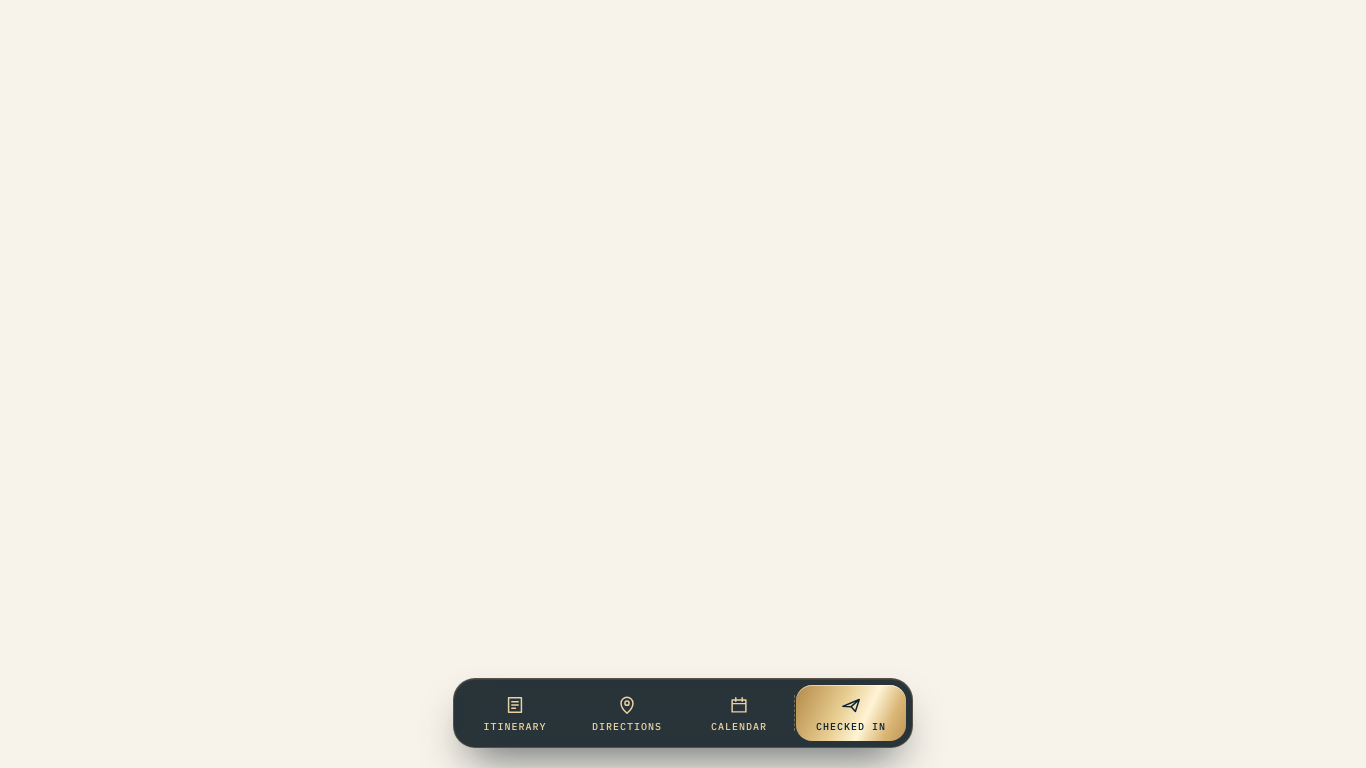
Scenario: BoardingDock › opens a calendar sheet listing exactly the two attending events in en
This screenshot has width=1366, height=768.
What coordinates should you click on to do the following:
click the button "Calendar"
I would click on:
 (739, 713)
Its box is [684,685,794,741].
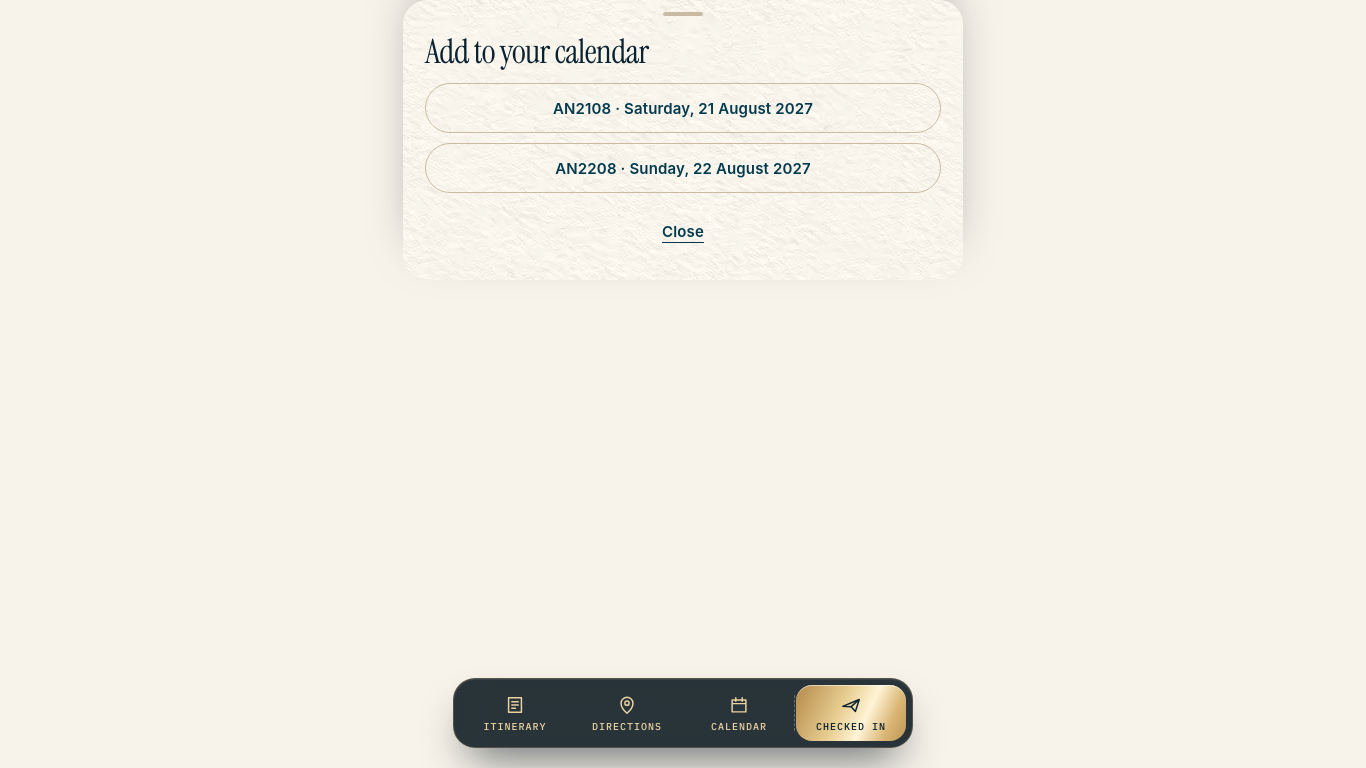
Expected: the number of links is 2, [425,83,941,133]; [425,143,941,193]
Expected: the link "AN2108 · Saturday, 21 August 2027" is shown, [425,83,941,133]
Expected: the link "AN2208 · Sunday, 22 August 2027" is shown, [425,143,941,193]
